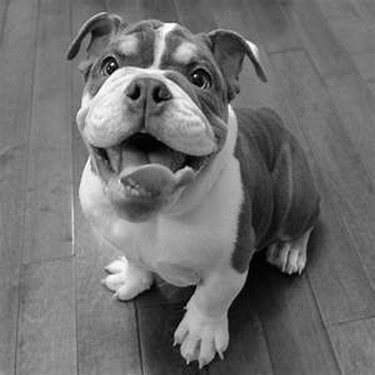dog: (54, 5, 327, 373)
